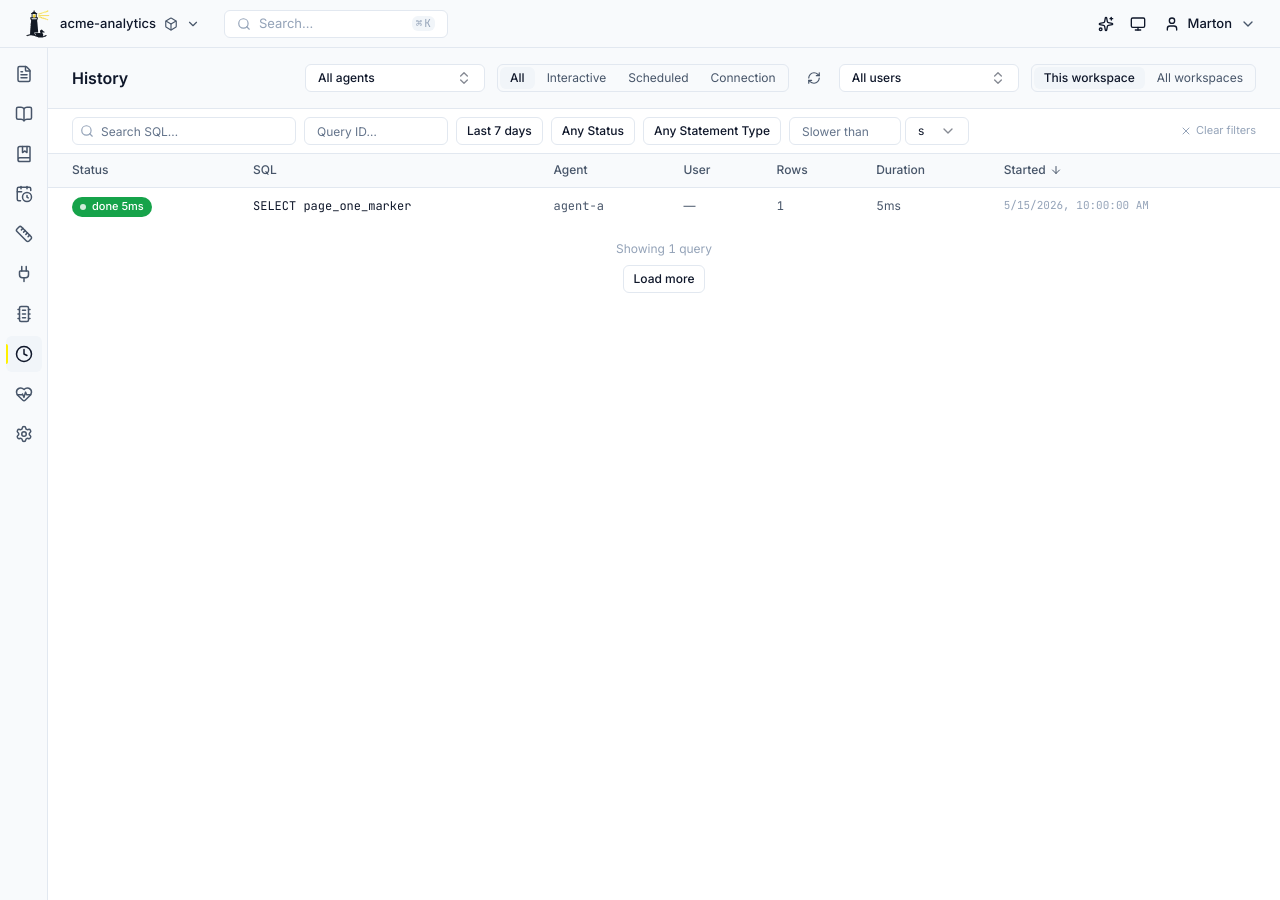
Test case: HistoryPage scope, filters and paging › loads another page on demand and appends it
Expected: the text "SELECT page_one_marker" is shown, [253,198,411,214]
Expected: the text "Showing 1 query" is shown, [616,240,712,257]
Click the button "Load more". click: (664, 279)
box: [622,265,706,293]
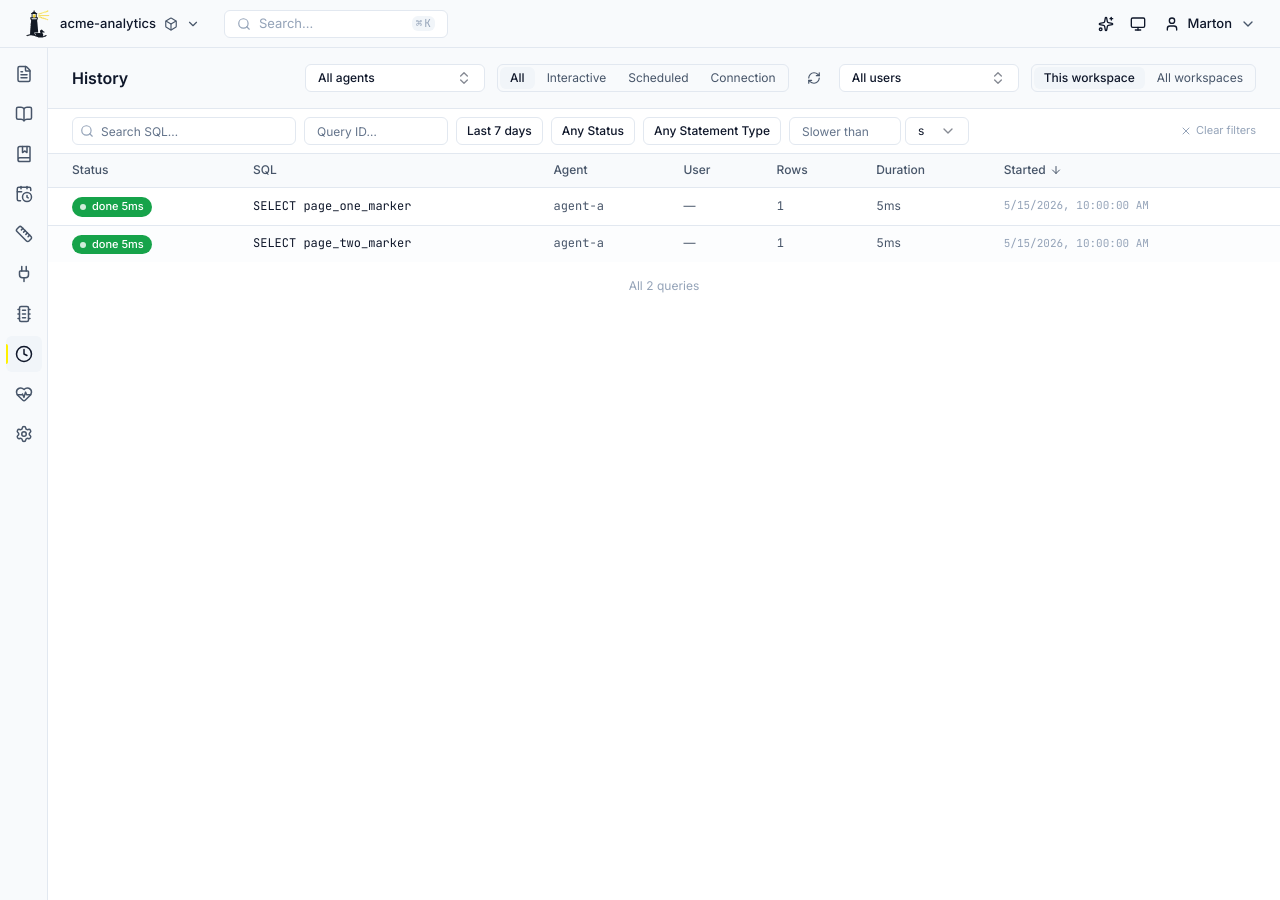
Now the text "SELECT page_two_marker" is shown, box [253,236,411,252]
Now the text "All 2 queries" is shown, box [629,278,699,295]
Now the button "Load more" is gone
